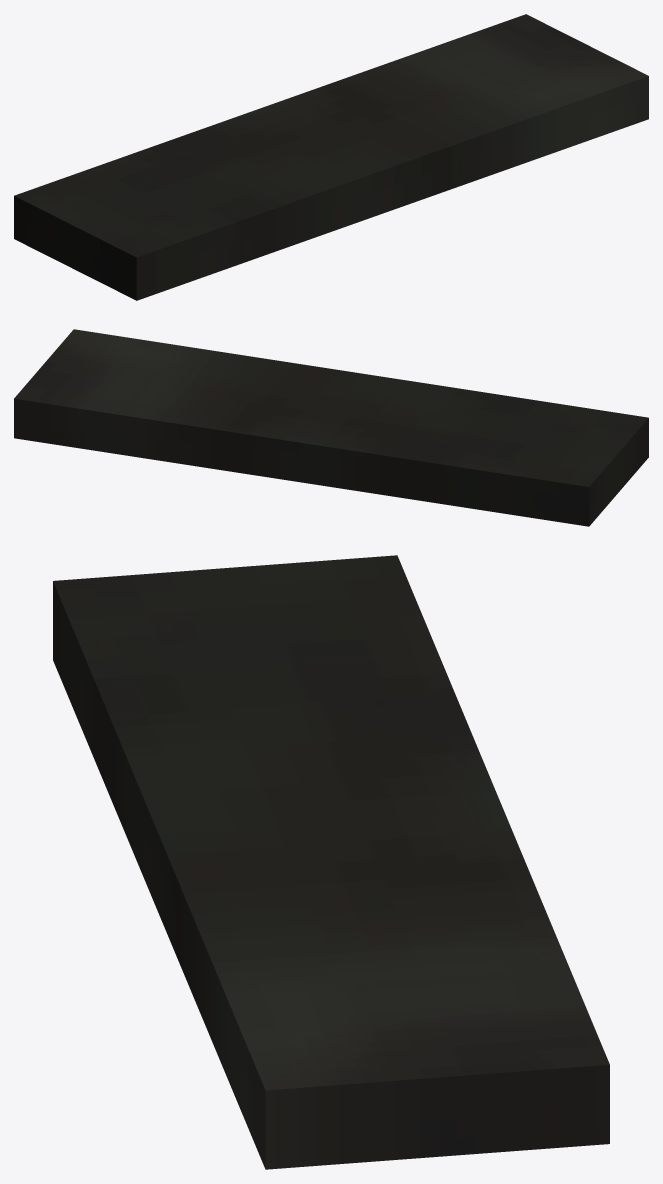
The model's file is frame__gauge_tick_1.glb.
3 renders of one model, top to bottom at view 1: azimuth 30°, elevation 25°; view 2: azimuth 150°, elevation 25°; view 3: azimuth 270°, elevation 25°, orthographic. The views are drawn at different scales.
Parts seen in each view (by area): view 1: geometry_0; view 2: geometry_0; view 3: geometry_0.
Part boxes in pixels (box(x1,y1,x2,y2)): geometry_0: box(14, 14, 648, 300); geometry_0: box(14, 329, 648, 526); geometry_0: box(53, 555, 609, 1169).
Size of the model in its own units: 0.0145 by 0.001 by 0.00637.
1 material, 1 textured.
